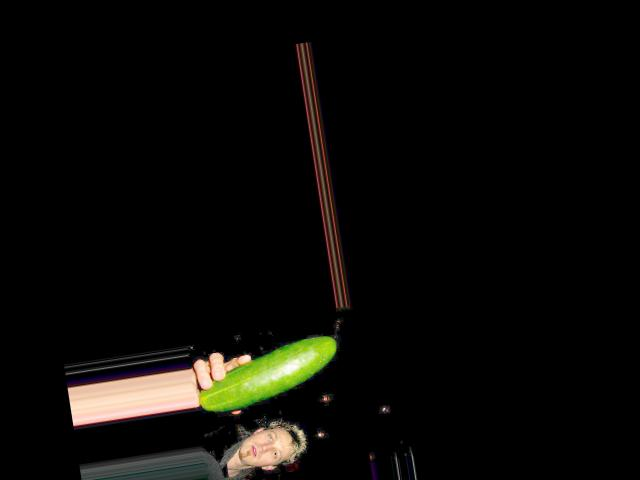cucumber: (193, 333, 342, 413)
